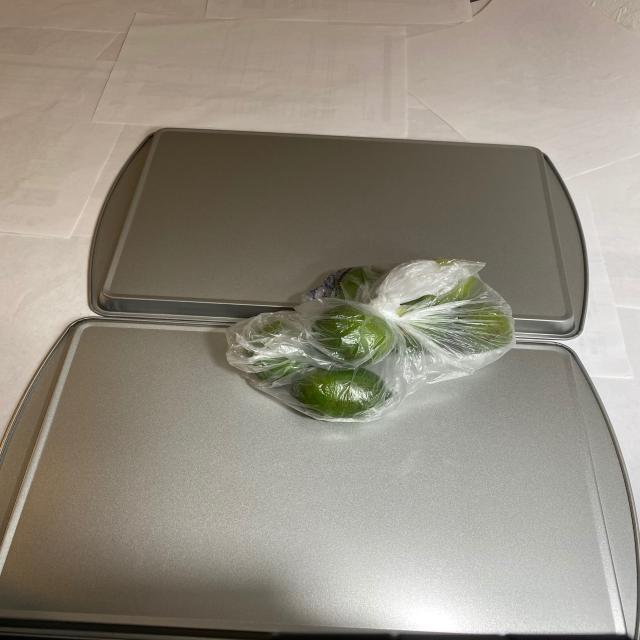lemon: (220, 264, 514, 414)
